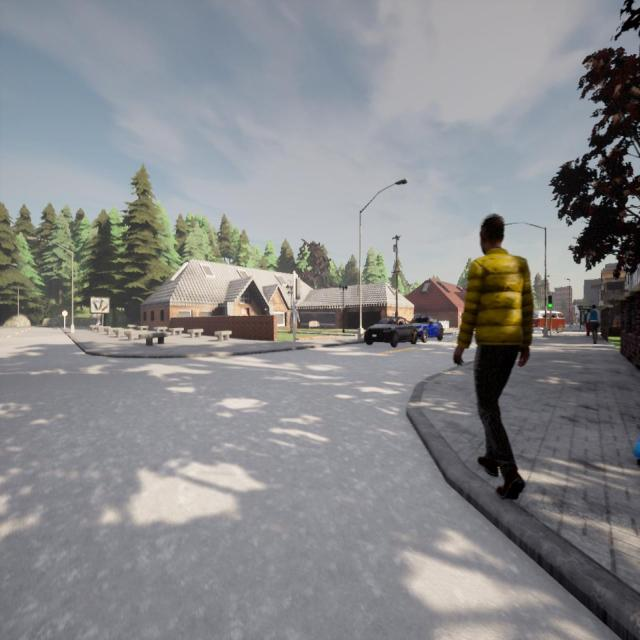Pedestrian: (453, 214, 533, 499), (586, 304, 601, 345), (290, 304, 300, 342)
Traffic_Signs: (62, 310, 68, 318)
Vehicle: (364, 316, 418, 347), (408, 315, 444, 343), (533, 310, 565, 333)
traffic_light: (296, 278, 300, 300), (548, 295, 552, 308)
